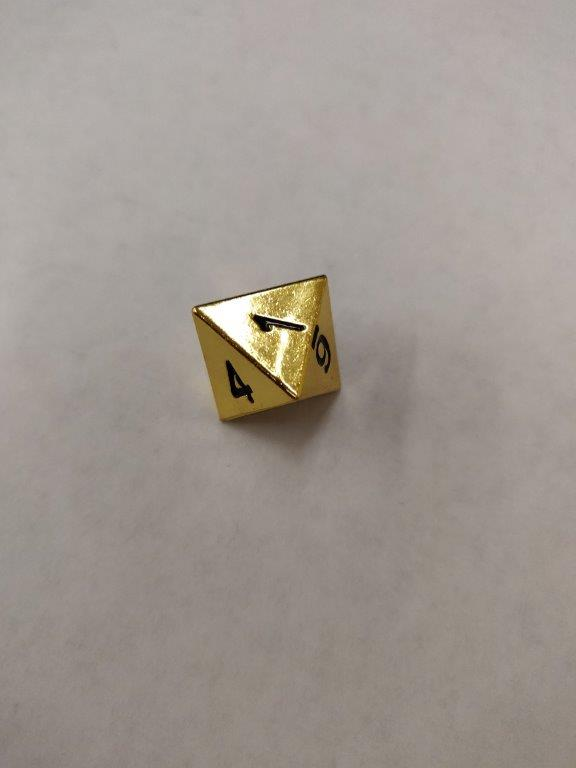d8-1: (190, 274, 345, 423)
